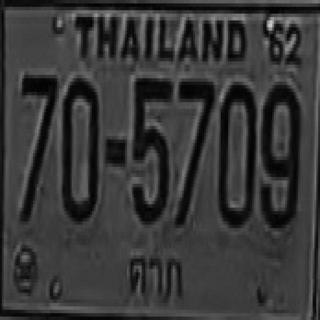N00: (217, 78, 254, 225), (61, 75, 97, 221)
N05: (130, 75, 171, 221)
N07: (175, 76, 213, 223), (19, 72, 56, 221)
N09: (260, 82, 299, 225)
P69: (124, 243, 189, 309)
